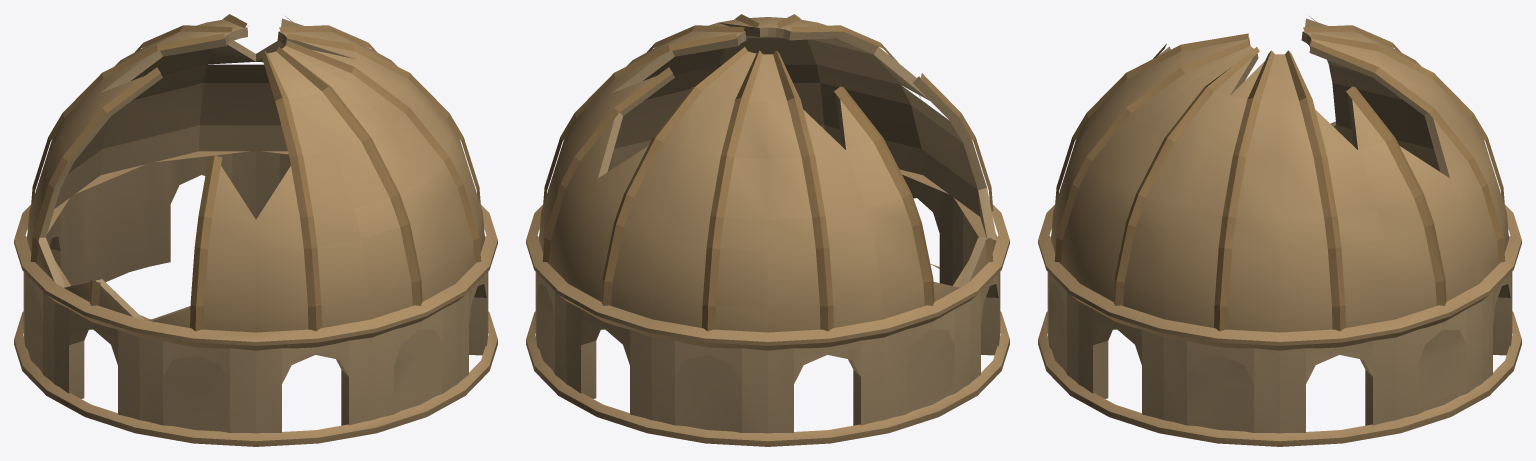
Rendered from dome.hall_ruin_12.sandstone.glb.
3 renders of one model, left to right at view 1: azimuth 30°, elevation 25°; view 2: azimuth 150°, elevation 25°; view 3: azimuth 270°, elevation 25°, orthographic.
Visible parts, largest first — view 1: dome_hall_ruin_12_sandstone; view 2: dome_hall_ruin_12_sandstone; view 3: dome_hall_ruin_12_sandstone.
Boxes of the visible parts, x1,y1,x2,y2 form: dome_hall_ruin_12_sandstone: (14,14,497,446); dome_hall_ruin_12_sandstone: (526,14,1009,446); dome_hall_ruin_12_sandstone: (1038,16,1521,446).
Size of what is drawn, in the model's own units: 15.2 by 10.67 by 15.2.
